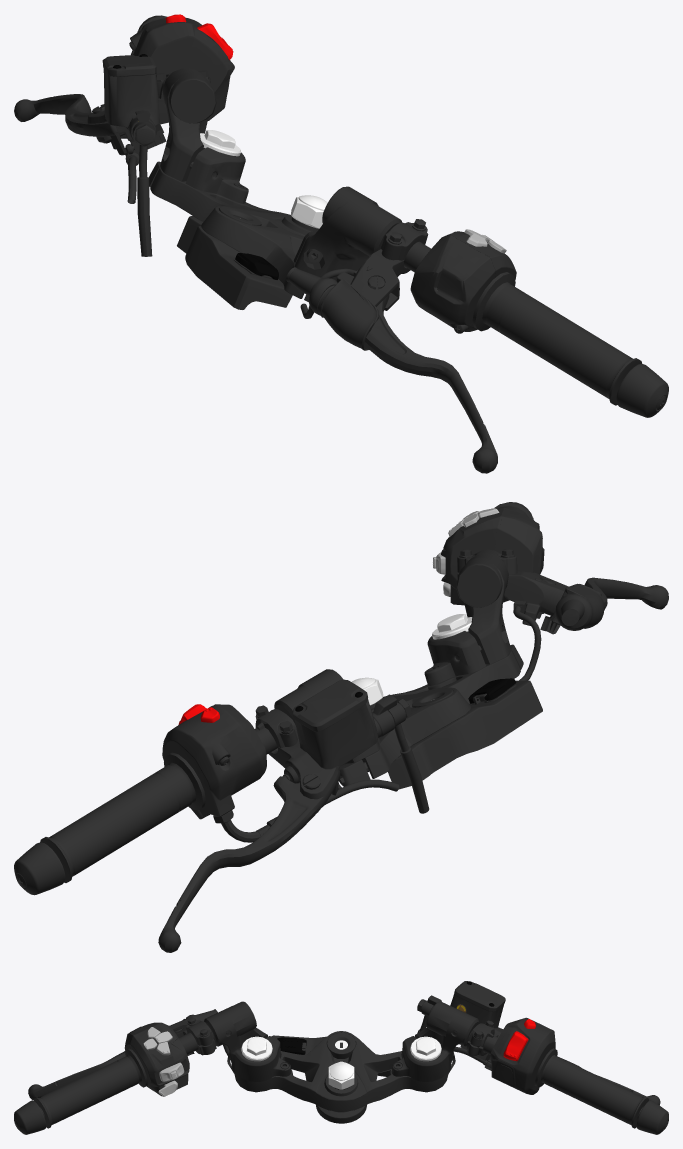
Rendered from Handle.fbx.
The picture shows the model from 3 angles, top to bottom: view 1: azimuth 30°, elevation 25°; view 2: azimuth 150°, elevation 25°; view 3: azimuth 270°, elevation 25°; orthographic projection. The views are drawn at different scales.
Parts seen in each view (by area): view 1: Cube, handle.035, handle.100, polySurface34.001; view 2: Cube, Cube.004, handle.100, polySurface34.001, handle.035; view 3: Cube, Cube.004, polySurface34.001, handle.035, polySurface5, polySurface3, polySurface128.
Part boxes in pixels (x1=…): Cube: x1=87, y1=15, x2=668, y2=417; handle.035: x1=365, y1=294, x2=497, y2=473; handle.100: x1=14, y1=94, x2=126, y2=155; polySurface34.001: x1=102, y1=55, x2=156, y2=76; Cube: x1=14, y1=502, x2=604, y2=895; Cube.004: x1=40, y1=752, x2=205, y2=882; handle.100: x1=158, y1=769, x2=340, y2=952; polySurface34.001: x1=292, y1=679, x2=367, y2=731; handle.035: x1=549, y1=577, x2=668, y2=634; Cube: x1=14, y1=994, x2=668, y2=1134; Cube.004: x1=535, y1=1048, x2=648, y2=1128; polySurface34.001: x1=454, y1=981, x2=505, y2=1011; handle.035: x1=28, y1=1051, x2=194, y2=1100; polySurface5: x1=503, y1=1031, x2=528, y2=1061; polySurface3: x1=277, y1=1037, x2=306, y2=1054; polySurface128: x1=159, y1=1062, x2=184, y2=1081.
Bounding box in the file's own units: 63.57 × 43.57 × 231.
